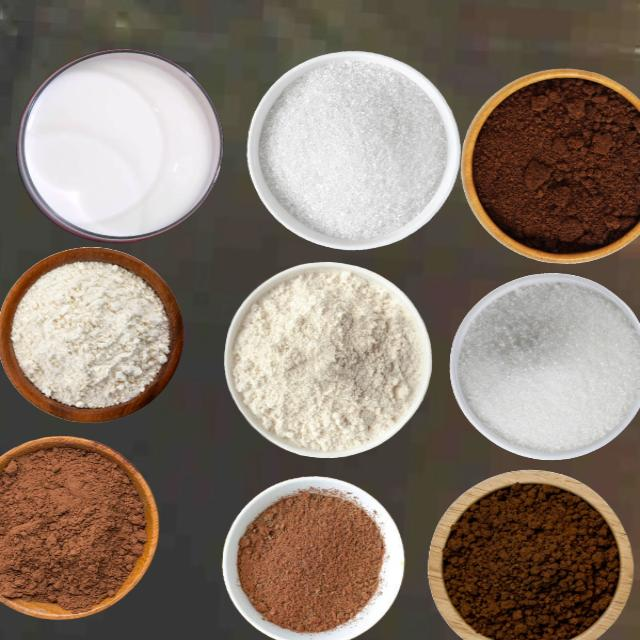Cocoa: (0, 436, 155, 619), (236, 487, 385, 633)
Coffee: (470, 74, 639, 254), (441, 481, 620, 639)
Flour: (231, 269, 423, 452), (9, 259, 170, 409)
Sugar: (258, 57, 448, 240), (456, 279, 639, 452)
